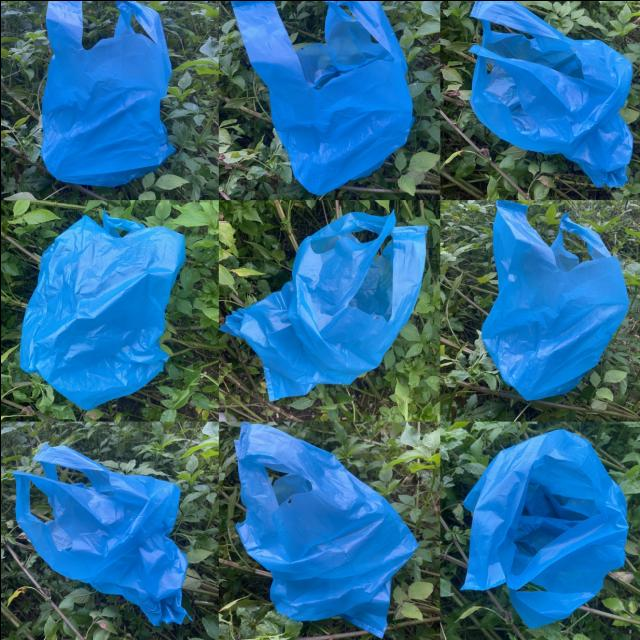plastik: (234, 421, 417, 636), (220, 211, 425, 399), (231, 0, 413, 194), (18, 211, 185, 409), (461, 429, 627, 626), (12, 444, 186, 625), (469, 0, 632, 187), (480, 200, 628, 399), (40, 0, 174, 185)
